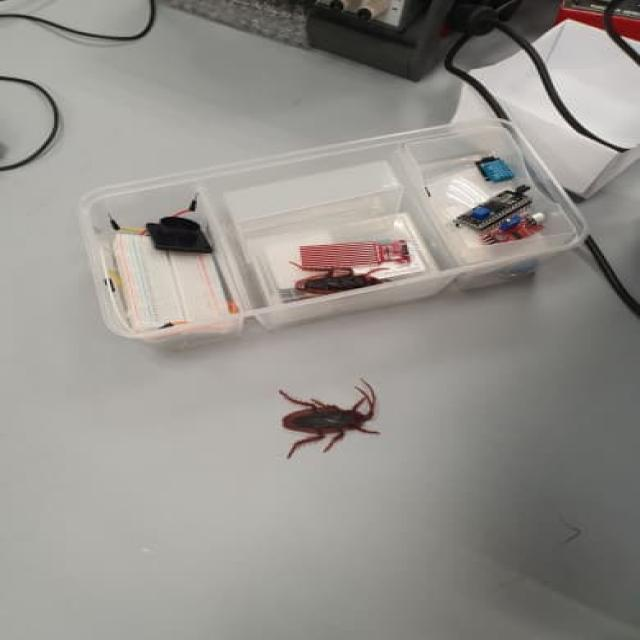Cockroach: (271, 380, 389, 450), (284, 256, 402, 314)
